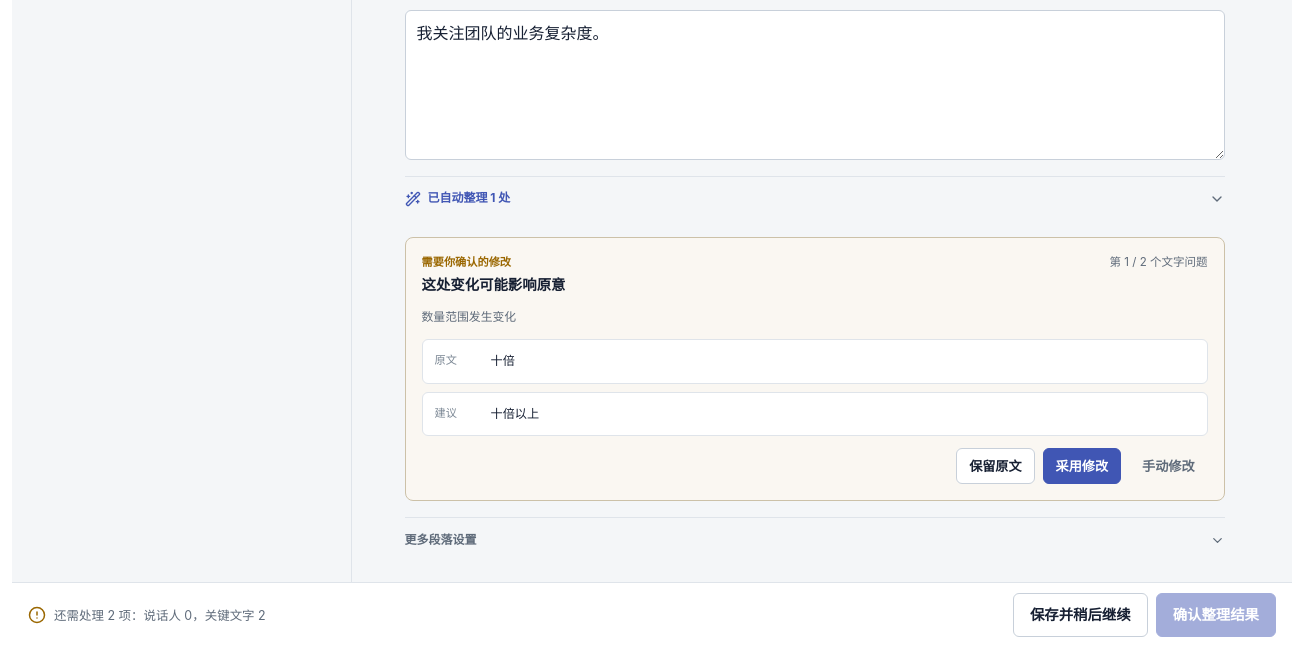
Test case: CleanupWorkbench › shows one blocking correction at a time and folds automatic cleanup
This screenshot has width=1292, height=647.
(page scrolled)
Expected: the text "第 1 / 2 个文字问题" is shown, x1=1110 y1=254 x2=1208 y2=272
Expected: the text "十倍" is shown, x1=490 y1=353 x2=515 y2=368
Click the button "采用修改" at [1082, 466], box x1=1043 y1=448 x2=1121 y2=484
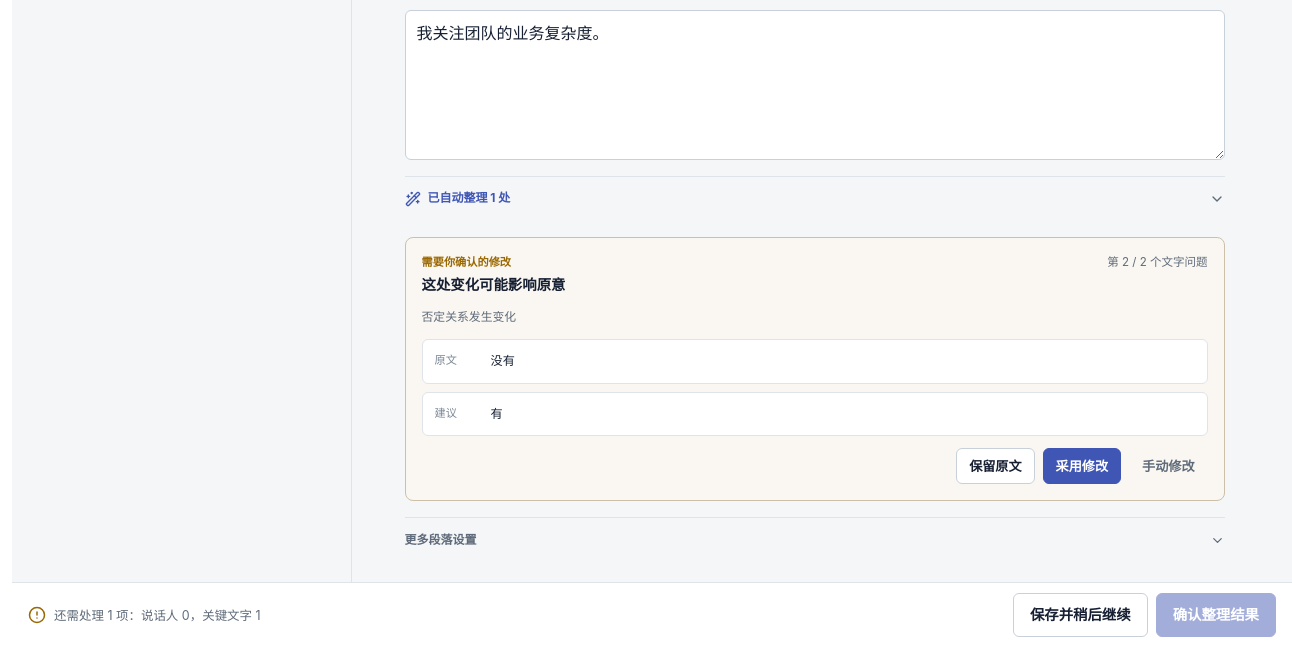
Expected: the text "第 2 / 2 个文字问题" is shown, x1=1107 y1=254 x2=1208 y2=272
Expected: the text "没有" is shown, x1=490 y1=353 x2=515 y2=368
Expected: the text "十倍" is gone
